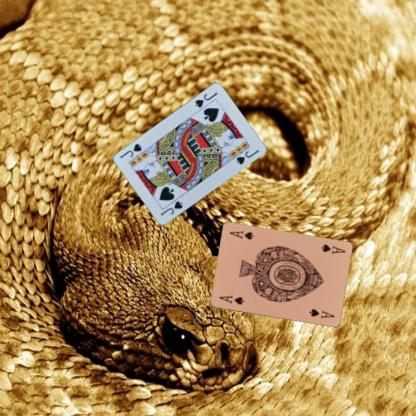As: (318, 241, 347, 255), (217, 293, 245, 306)
Js: (192, 90, 218, 109), (158, 199, 184, 217)
